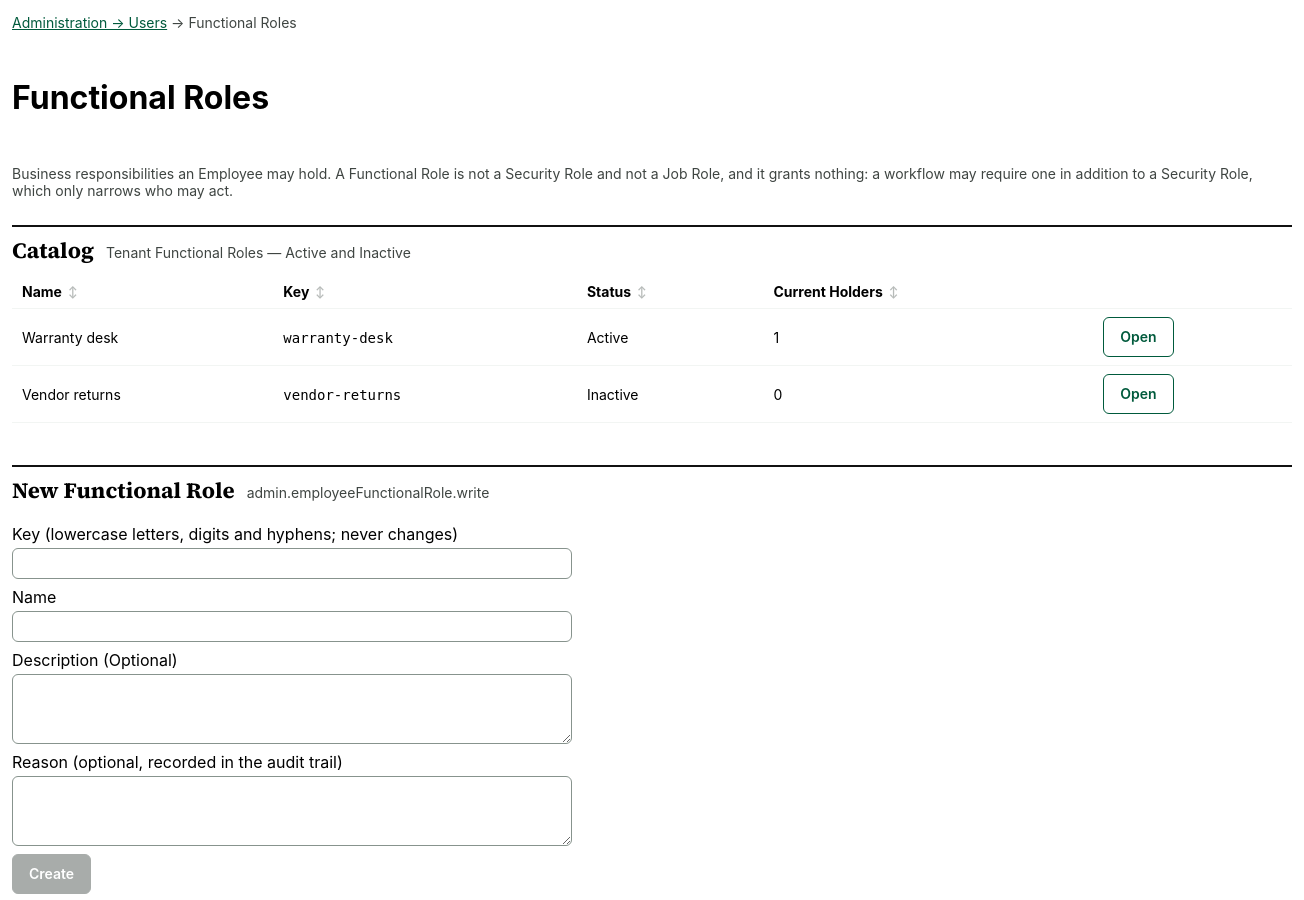
Administration > Users > Functional Roles › creates with key, name, description and reason; deactivation sends the stated reason and shows the refusal VERBATIM
Type "field-trainer" into the field named "Functional Role key" at (292, 563), box [12, 548, 572, 579]
Type "Field trainer" into the field named "Functional Role name" at (292, 626), box [12, 611, 572, 642]
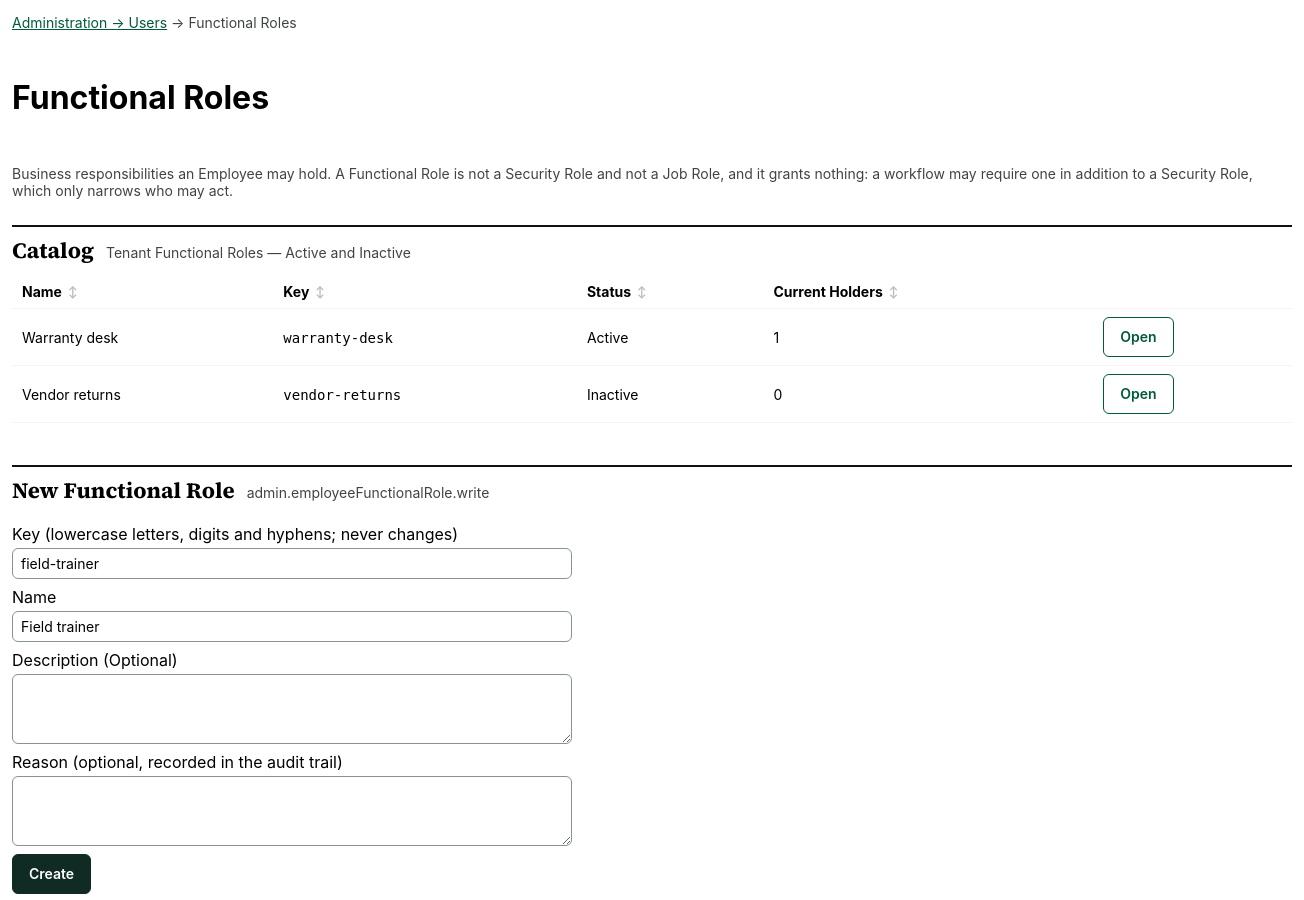
Type "Trains new techs" into the text box named "Functional Role description" at (292, 709), box [12, 674, 572, 744]
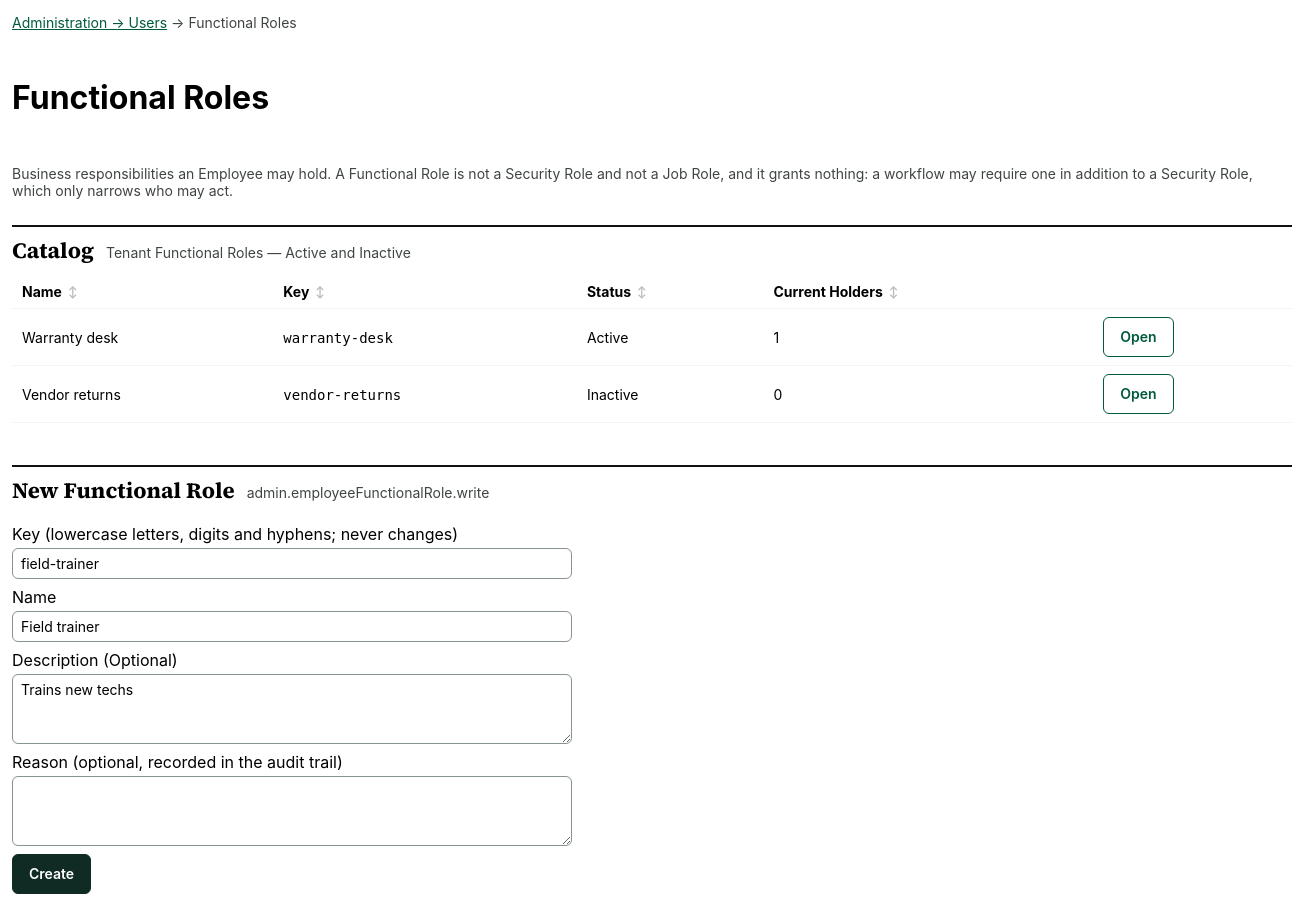
Submit the form named "Create Functional Role", box [12, 524, 572, 894]
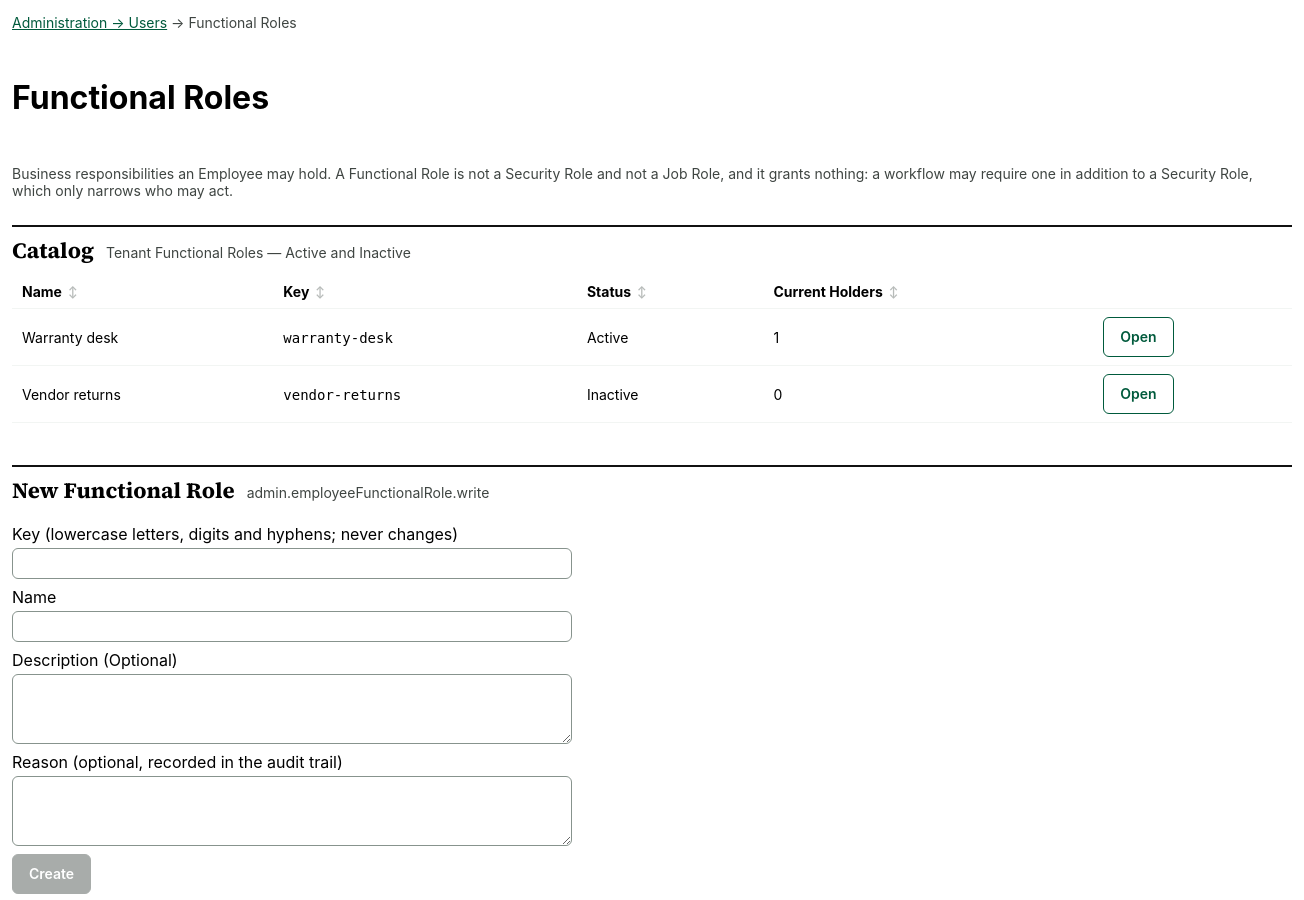
Click the button with aria-label "Open warranty-desk" at (1138, 337), box [1103, 317, 1174, 357]
(page scrolled)
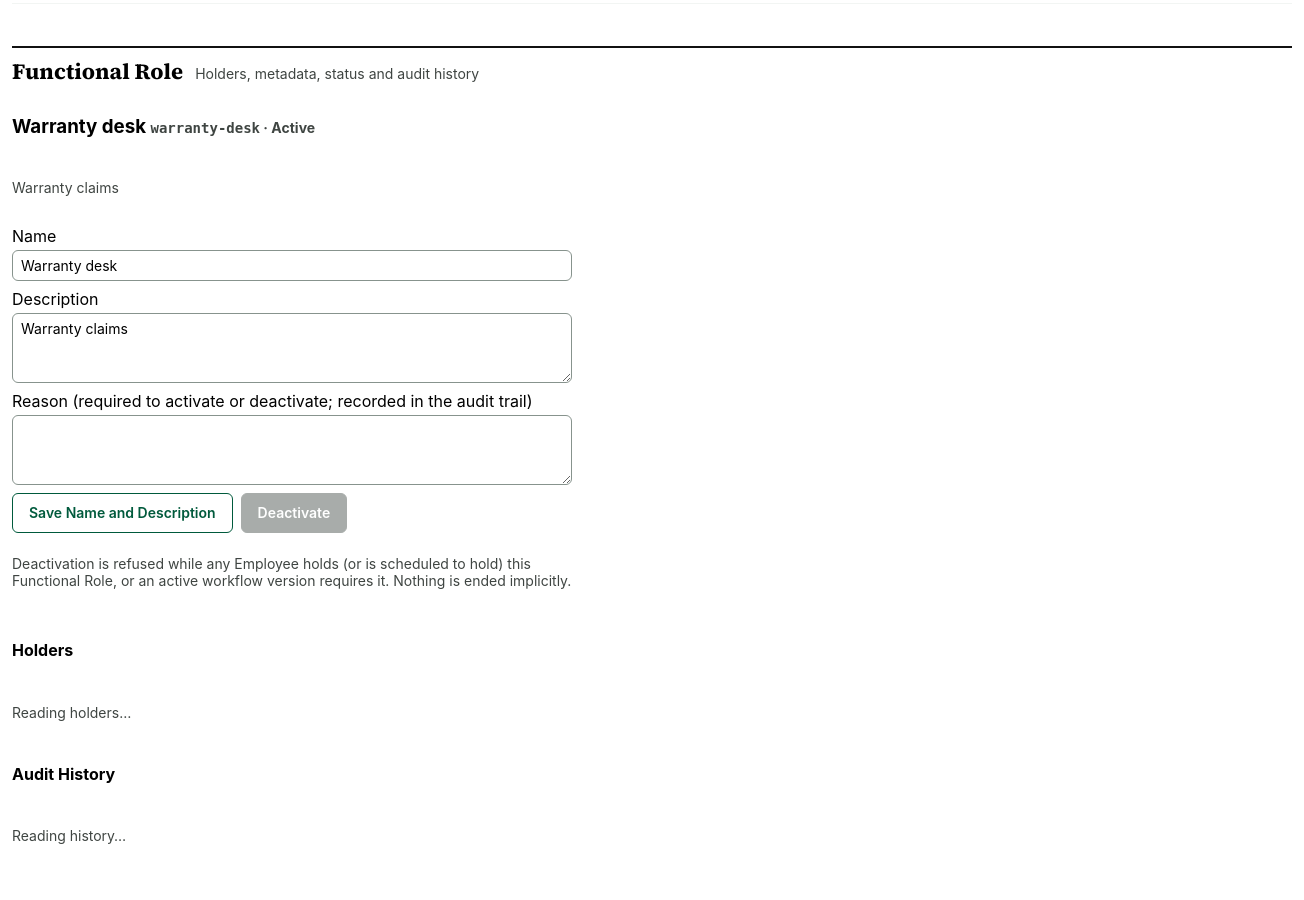
Result: the button "Deactivate" is disabled at [241, 493, 347, 533]
Type "duty retired" into the text box labelled "Reason" at (292, 450), box [12, 415, 572, 485]
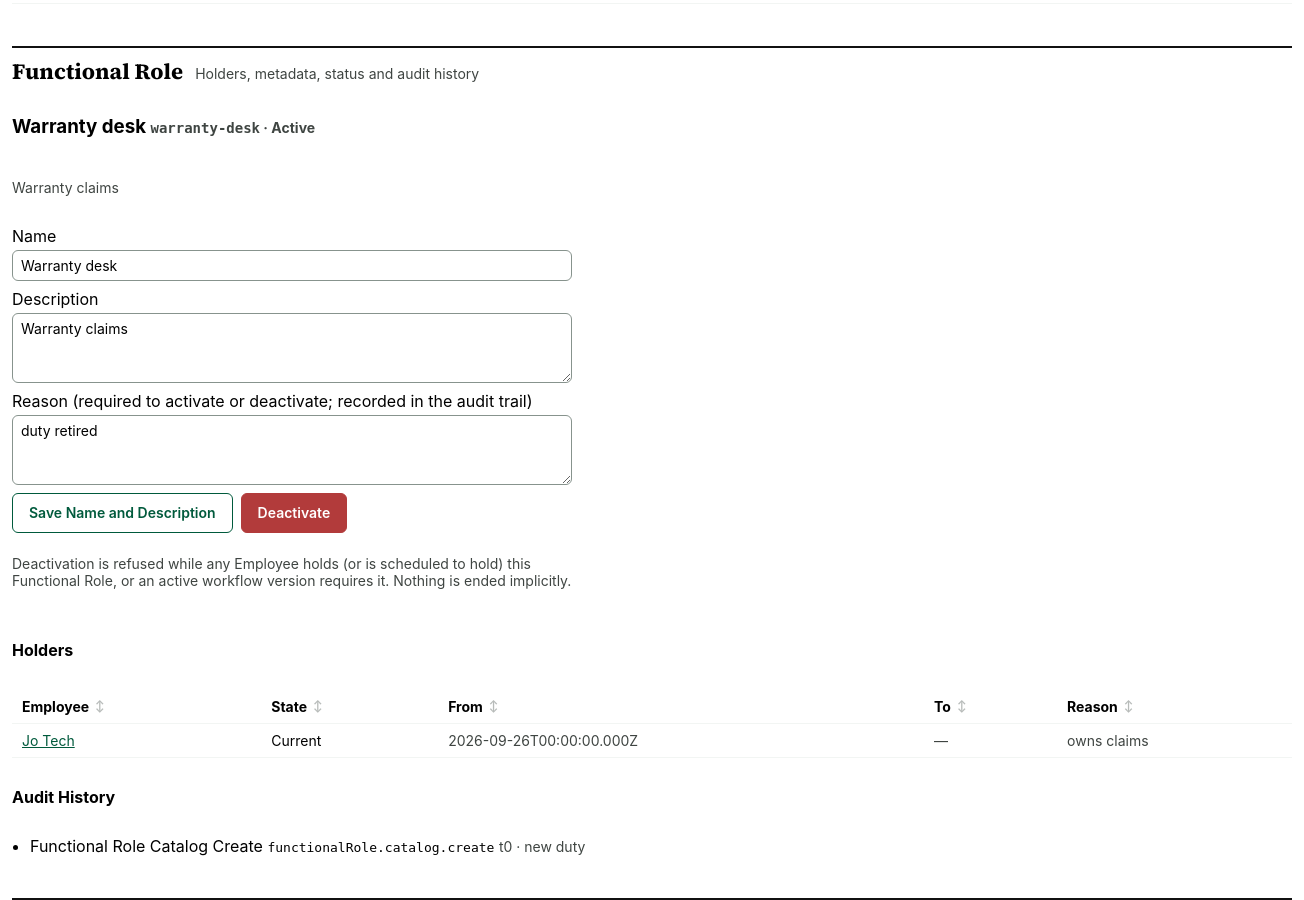
Click the button "Deactivate" at (294, 513), box [241, 493, 347, 533]
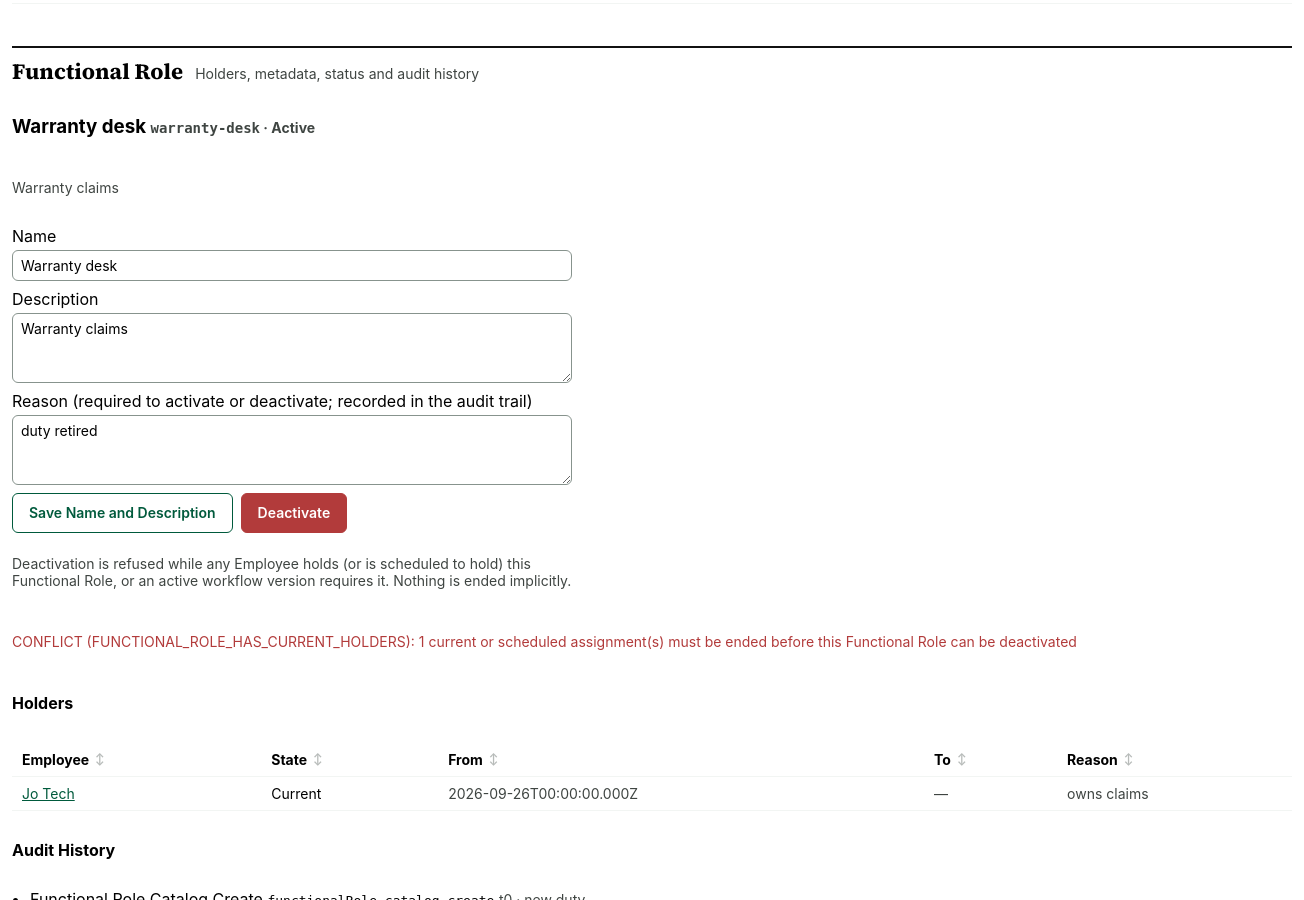
Result: the message shows "CONFLICT (FUNCTIONAL_ROLE_HAS_CURRENT_HOLDERS): 1 current or scheduled assignment(s) must be ended before this Functional Role can be deactivated" at [12, 633, 1077, 650]
